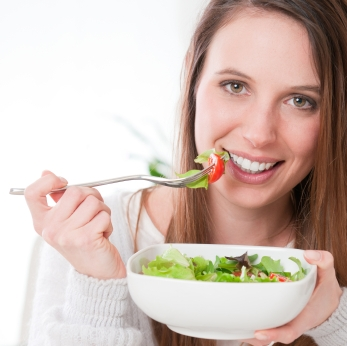eating: (90, 3, 346, 244)
